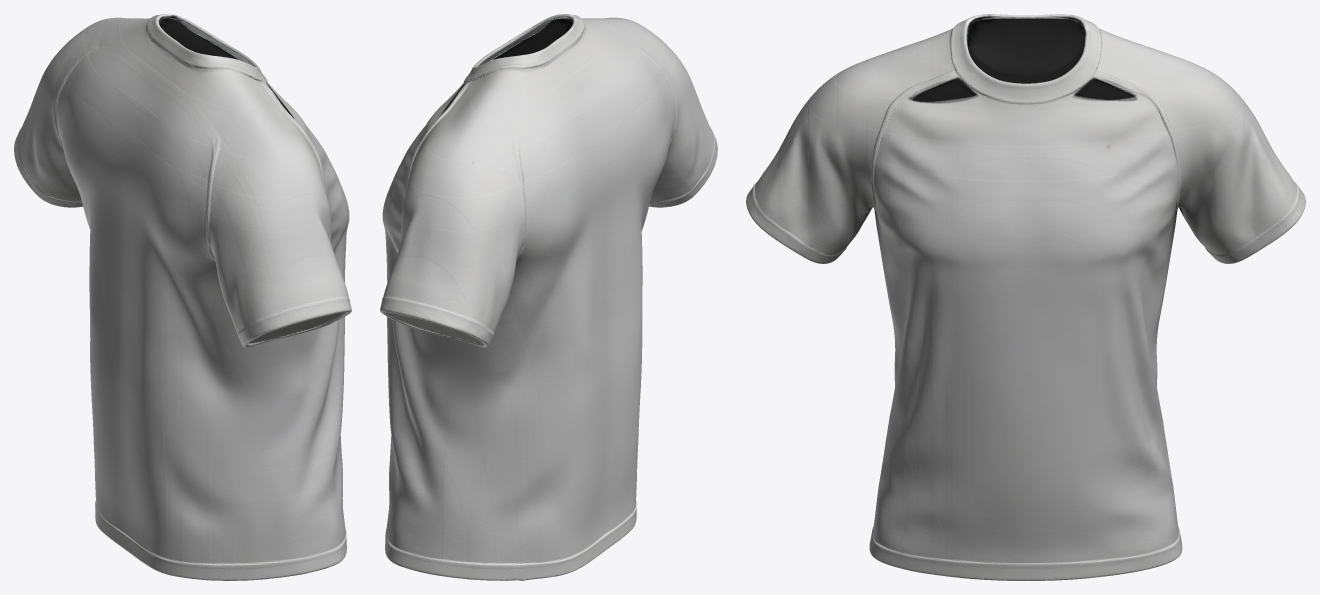
Rendered from tshirt-model.glb.
3 views of the same model, side by side, from view 1: azimuth 30°, elevation 25°; view 2: azimuth 150°, elevation 25°; view 3: azimuth 270°, elevation 25° (orthographic).
Parts seen in each view (by area): view 1: tripo_node_59d46d84-6b2e-4f5c-8d7a-0d7adab66580; view 2: tripo_node_59d46d84-6b2e-4f5c-8d7a-0d7adab66580; view 3: tripo_node_59d46d84-6b2e-4f5c-8d7a-0d7adab66580.
Boxes of the visible parts, bbox=[...] form: tripo_node_59d46d84-6b2e-4f5c-8d7a-0d7adab66580: bbox=[14, 14, 351, 580]; tripo_node_59d46d84-6b2e-4f5c-8d7a-0d7adab66580: bbox=[380, 14, 717, 580]; tripo_node_59d46d84-6b2e-4f5c-8d7a-0d7adab66580: bbox=[746, 14, 1305, 580].
Bounding box in the file's own units: 0.4276 × 1 × 0.9936.
Materials: 1 (1 with a texture image).
